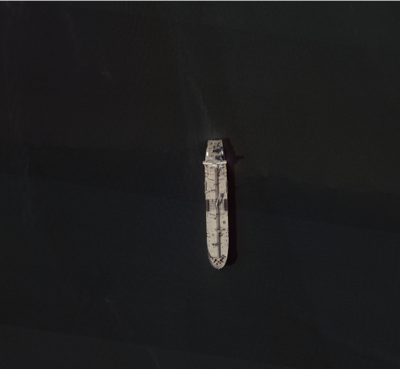boat: (202, 138, 232, 271)
